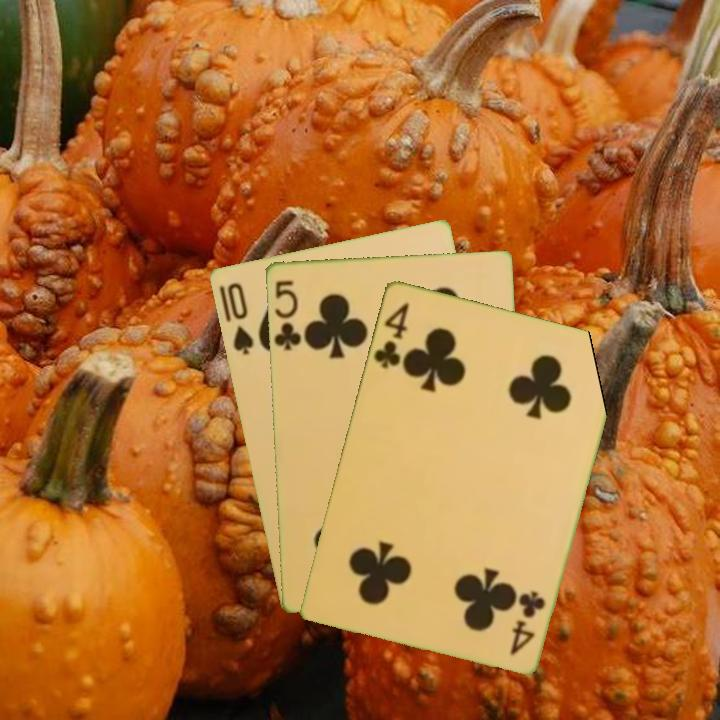10s: (223, 279, 256, 358)
4c: (369, 298, 412, 371), (506, 586, 548, 658)
5c: (270, 277, 304, 353)
